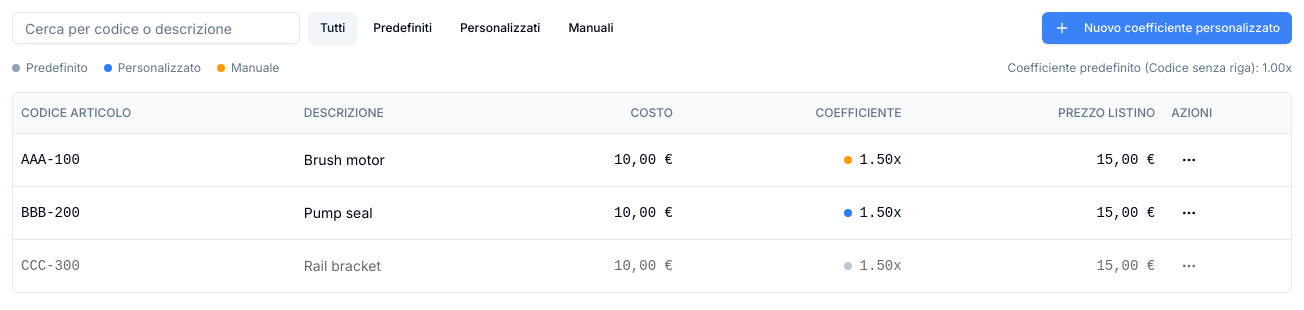
CoefficientsTable — client-side text filter › filters by description
Type "seal" into the field labelled "Cerca per codice o descrizione" at (156, 28), box [12, 12, 300, 44]
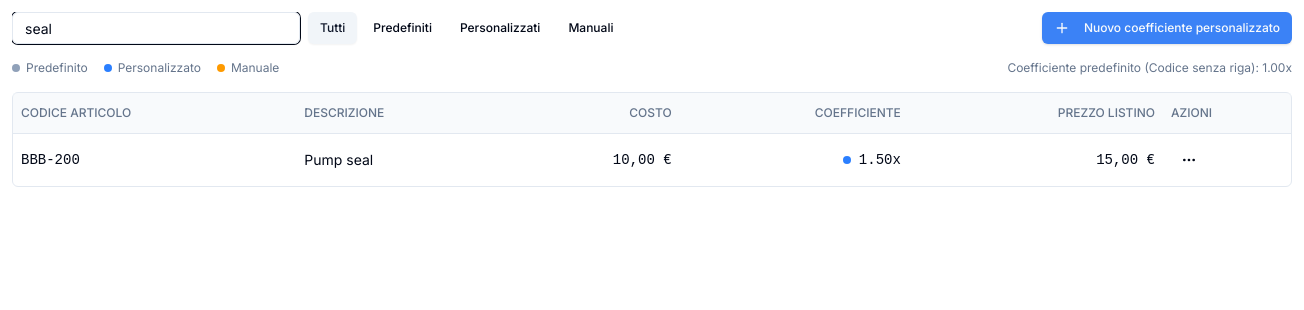
Expected: the text "BBB-200" is shown, [13, 133, 296, 186]
Now the text "AAA-100" is gone
